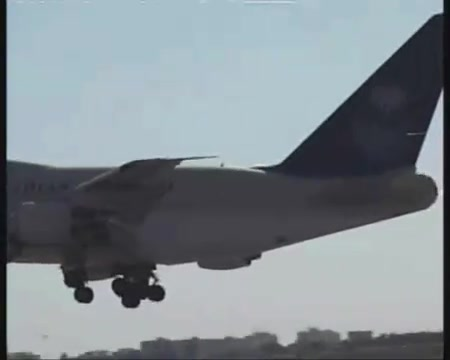aeroplane: (6, 10, 445, 310)
